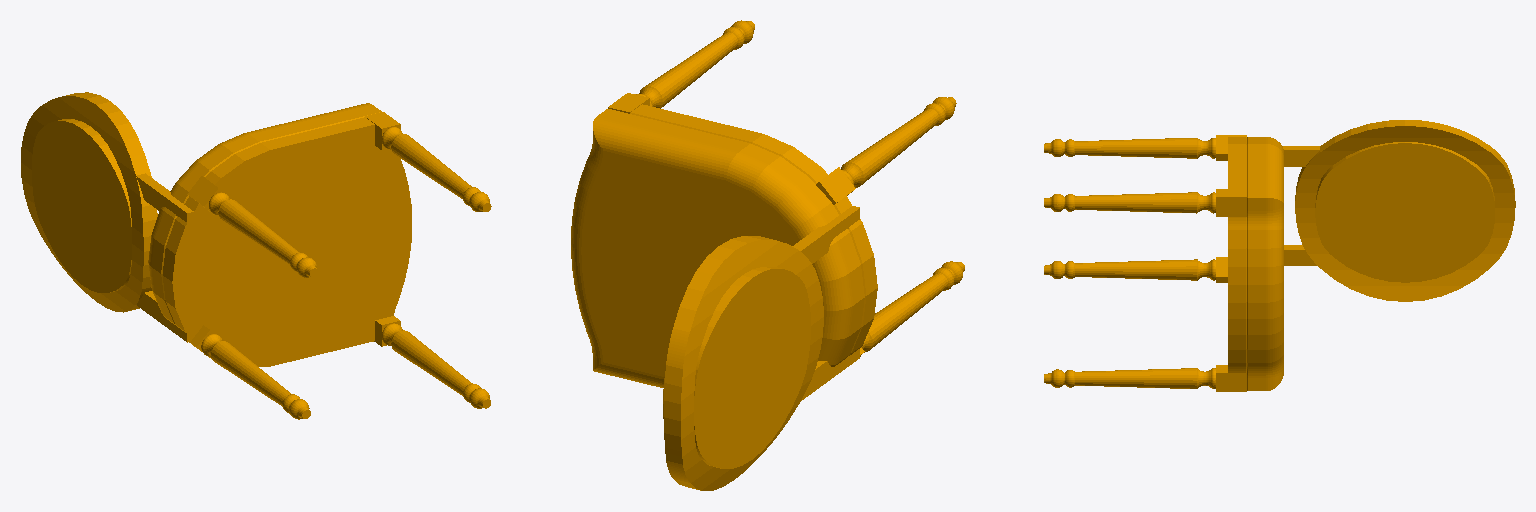
URDF robot description (chair):
<?xml version="1.0"?>
<robot name="chair">

  <link name="chair">
    <visual>
      <origin rpy="0 0 0" xyz="0 0 0"/>
      <geometry>
        <mesh filename="chair.obj"/>
      </geometry>
    </visual>

    <collision>
      <geometry>
        <mesh filename="part1.obj"/>
      </geometry>
      <origin rpy="0 0 0" xyz="0 0 0"/>
    </collision>

    <collision>
      <geometry>
        <mesh filename="part2.obj"/>
      </geometry>
      <origin rpy="0 0 0" xyz="0 0 0"/>
    </collision>

    <collision>
      <geometry>
        <mesh filename="part3.obj"/>
      </geometry>
      <origin rpy="0 0 0" xyz="0 0 0"/>
    </collision>

    <collision>
      <geometry>
        <mesh filename="part4.obj"/>
      </geometry>
      <origin rpy="0 0 0" xyz="0 0 0"/>
    </collision>

    <collision>
      <geometry>
        <mesh filename="part5.obj"/>
      </geometry>
      <origin rpy="0 0 0" xyz="0 0 0"/>
    </collision>

    <collision>
      <geometry>
        <mesh filename="part6.obj"/>
      </geometry>
      <origin rpy="0 0 0" xyz="0 0 0"/>
    </collision>

    <inertial>
      <mass value="1000.0"/>
      <inertia ixx="1000.0" iyy="1000.0" izz="1000.0"/>
    </inertial>
  </link>

</robot>

--- Facts derived from the render (not from the file) ---
3 views of the same robot in one strip: view 1: azimuth 30°, elevation 25°; view 2: azimuth 150°, elevation 25°; view 3: azimuth 270°, elevation 25° (orthographic).
Robot: chair — 1 links, 0 joints (none); root link chair; default pose: every joint at zero.
Visible links, largest first — view 1: chair; view 2: chair; view 3: chair.
Boxes of the visible links, left/top/right/bottom form: chair: left=21, top=92, right=491, bottom=419; chair: left=571, top=20, right=964, bottom=490; chair: left=1044, top=120, right=1515, bottom=391.
Bounding box of the posed robot: 0.432 × 0.8202 × 0.375 m (x, y, z).
1 mesh visuals loaded from 1 distinct referenced files (1 OBJ).